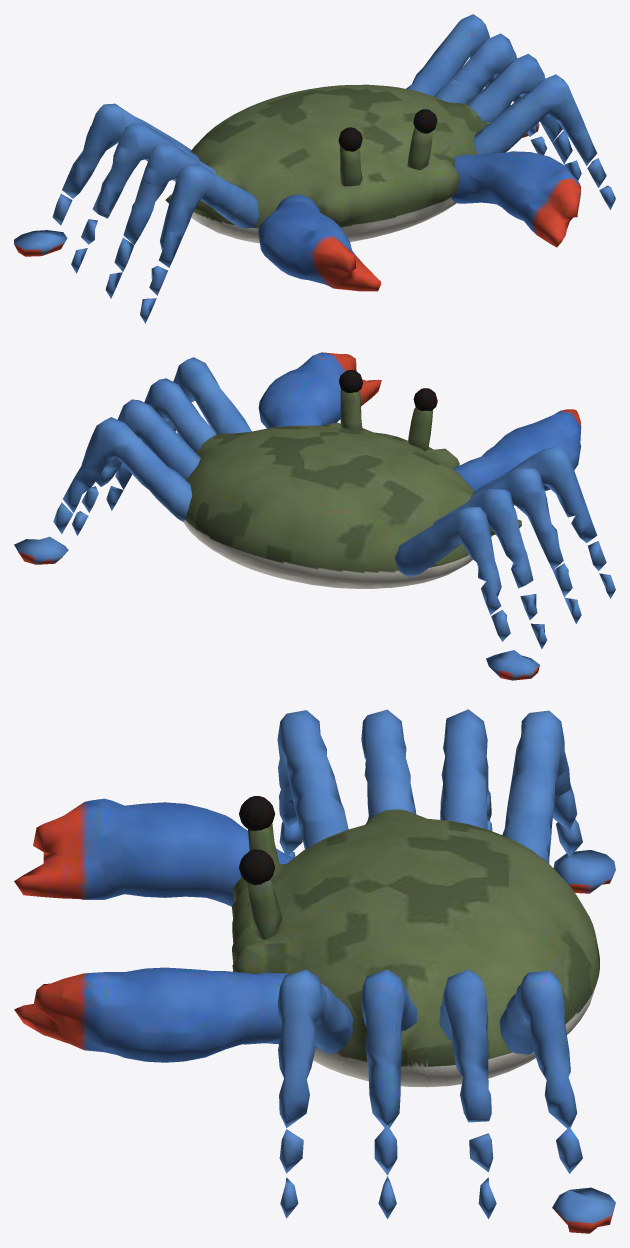
The model's file is blue_crab.glb.
3 views of the same model, one above another, from view 1: azimuth 30°, elevation 25°; view 2: azimuth 150°, elevation 25°; view 3: azimuth 270°, elevation 25° (orthographic). The views are drawn at different scales.
Visible parts, largest first — view 1: blue_crab, claw1, claw0, leg4, leg0, leg3, leg5, leg1, leg2, leg7, leg6; view 2: blue_crab, leg7, leg3, claw1, claw0, leg6, leg0, leg1, leg2, leg5, leg4; view 3: blue_crab, claw1, claw0, leg3, leg7, leg4, leg0, leg5, leg6, leg2, leg1.
Boxes of the visible parts, bbox=[...] form: blue_crab: bbox=[165, 84, 492, 243]; claw1: bbox=[451, 151, 581, 247]; claw0: bbox=[258, 194, 381, 291]; leg4: bbox=[473, 74, 615, 209]; leg0: bbox=[140, 163, 259, 323]; leg3: bbox=[14, 103, 191, 256]; leg5: bbox=[466, 54, 581, 180]; leg1: bbox=[105, 143, 215, 298]; leg2: bbox=[71, 123, 199, 273]; leg7: bbox=[406, 14, 539, 137]; leg6: bbox=[434, 33, 546, 154]; blue_crab: bbox=[183, 370, 521, 588]; leg7: bbox=[14, 417, 192, 564]; leg3: bbox=[395, 506, 539, 680]; claw1: bbox=[258, 352, 381, 428]; claw0: bbox=[453, 409, 581, 491]; leg6: bbox=[72, 399, 200, 535]; leg0: bbox=[474, 447, 615, 598]; leg1: bbox=[468, 468, 581, 623]; leg2: bbox=[433, 489, 547, 649]; leg5: bbox=[106, 378, 215, 510]; leg4: bbox=[166, 357, 251, 433]; blue_crab: bbox=[232, 796, 599, 1087]; claw1: bbox=[14, 967, 288, 1062]; claw0: bbox=[14, 798, 293, 906]; leg3: bbox=[502, 710, 615, 893]; leg7: bbox=[499, 970, 615, 1233]; leg4: bbox=[277, 969, 353, 1218]; leg0: bbox=[277, 710, 348, 857]; leg5: bbox=[361, 969, 417, 1218]; leg6: bbox=[439, 969, 496, 1219]; leg2: bbox=[440, 709, 492, 830]; leg1: bbox=[361, 709, 416, 819].
Size of the model in its own units: 0.2184 by 0.0627 by 0.1488.
1 material, 1 textured.
